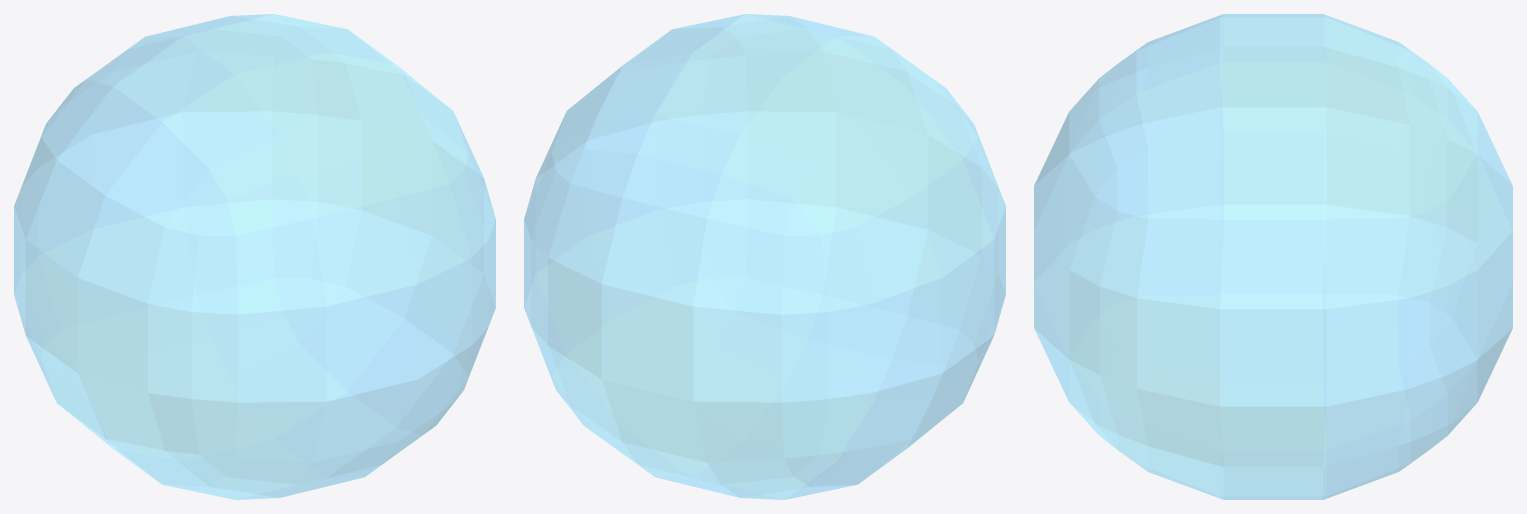
The model's file is BOLLA.glb.
The picture shows the model from 3 angles, left to right: view 1: azimuth 30°, elevation 25°; view 2: azimuth 150°, elevation 25°; view 3: azimuth 270°, elevation 25°; orthographic projection.
Parts seen in each view (by area): view 1: BOLLA; view 2: BOLLA; view 3: BOLLA.
Part boxes in pixels (box(x1,y1,x2,y2)): BOLLA: box(14, 14, 495, 499); BOLLA: box(524, 14, 1005, 499); BOLLA: box(1034, 14, 1512, 499).
Size of the model in its own units: 1.89 by 1.88 by 1.89.
